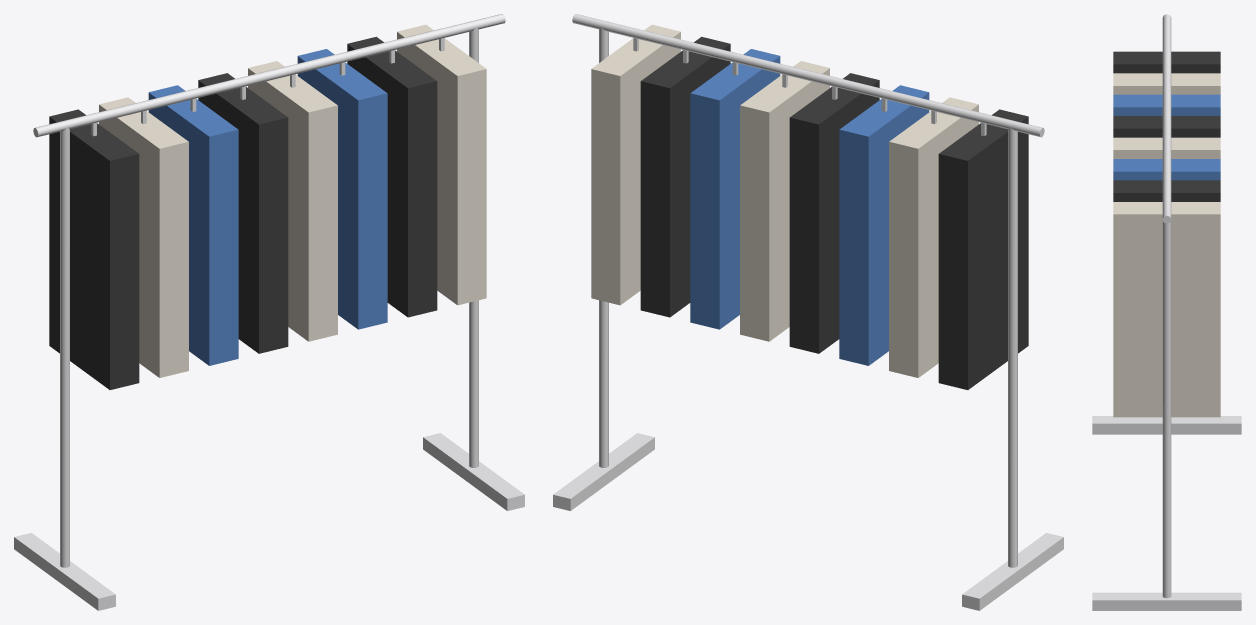
Rendered from gen_clothing_rack.glb.
3 renders of one model, left to right at view 1: azimuth 30°, elevation 25°; view 2: azimuth 150°, elevation 25°; view 3: azimuth 270°, elevation 25°, orthographic. The views are drawn at different scales.
Visible parts, largest first — view 1: gen_clothing_rack; view 2: gen_clothing_rack; view 3: gen_clothing_rack.
Boxes of the visible parts, x1=… form: gen_clothing_rack: x1=14, y1=14, x2=524, y2=610; gen_clothing_rack: x1=553, y1=14, x2=1063, y2=610; gen_clothing_rack: x1=1092, y1=14, x2=1241, y2=610.
Bounding box in the file's own units: 1.6 × 1.5 × 0.5.
